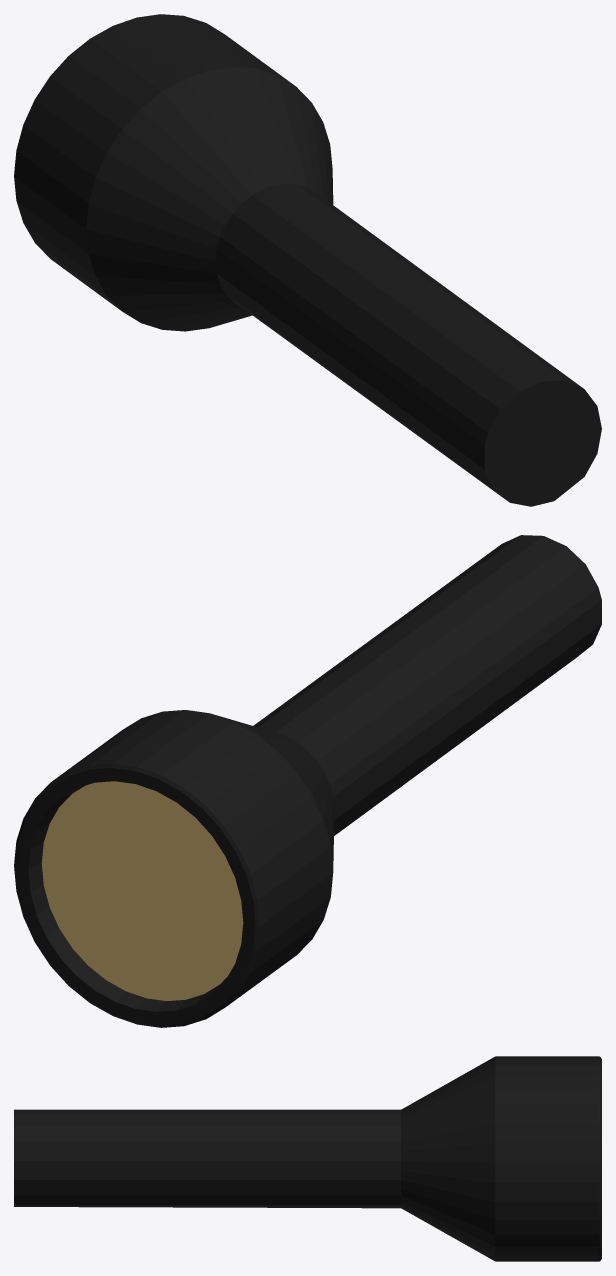
The model's file is flashlight.glb.
3 views of the same model, one above another, from view 1: azimuth 30°, elevation 25°; view 2: azimuth 150°, elevation 25°; view 3: azimuth 270°, elevation 25° (orthographic). The views are drawn at different scales.
Parts seen in each view (by area): view 1: flashlight; view 2: flashlight; view 3: flashlight.
Part boxes in pixels (box(x1,y1,x2,y2)): flashlight: box(14, 14, 601, 506); flashlight: box(14, 535, 601, 1027); flashlight: box(14, 1056, 601, 1261).
Size of the model in its own units: 0.14 by 0.14 by 0.4008.
